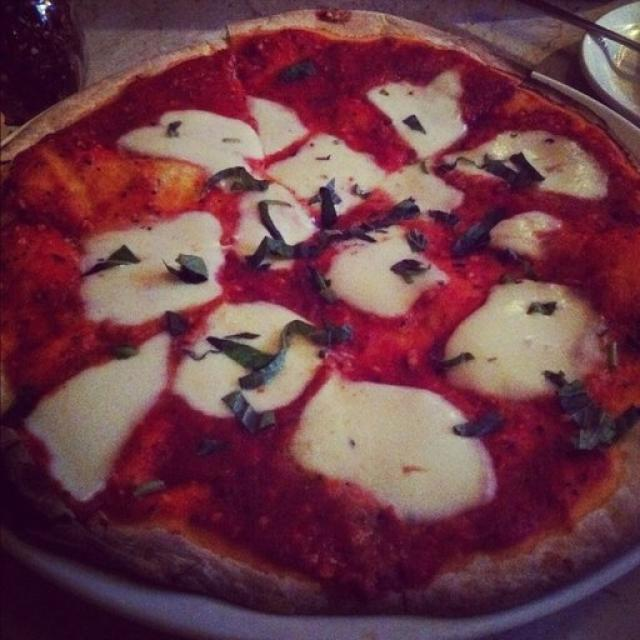Basil: (566, 392, 628, 444), (256, 196, 294, 263), (215, 342, 286, 377), (228, 400, 276, 434), (489, 153, 542, 181), (175, 252, 211, 291), (336, 222, 387, 245), (307, 235, 324, 303), (456, 413, 503, 437), (318, 182, 343, 227), (207, 166, 262, 186), (84, 253, 140, 270), (158, 314, 196, 331), (396, 261, 426, 282), (399, 114, 428, 133), (527, 300, 562, 314)
Cheese: (303, 372, 497, 514), (27, 331, 174, 485), (80, 218, 230, 316), (125, 104, 303, 186), (468, 268, 597, 379), (194, 314, 323, 405), (479, 113, 603, 196), (327, 226, 456, 305), (277, 130, 387, 204), (367, 69, 466, 151), (235, 190, 317, 258), (388, 163, 467, 213), (494, 208, 555, 252)
Pizza: (0, 9, 640, 621)
